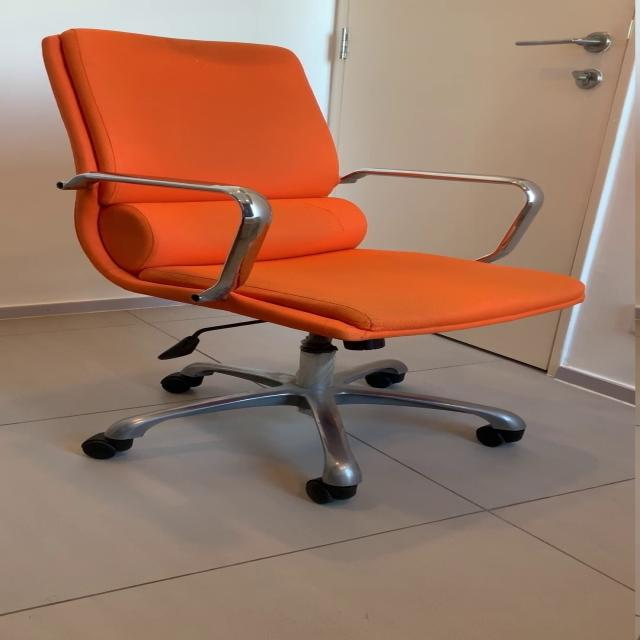Chair: (41, 28, 600, 509)
